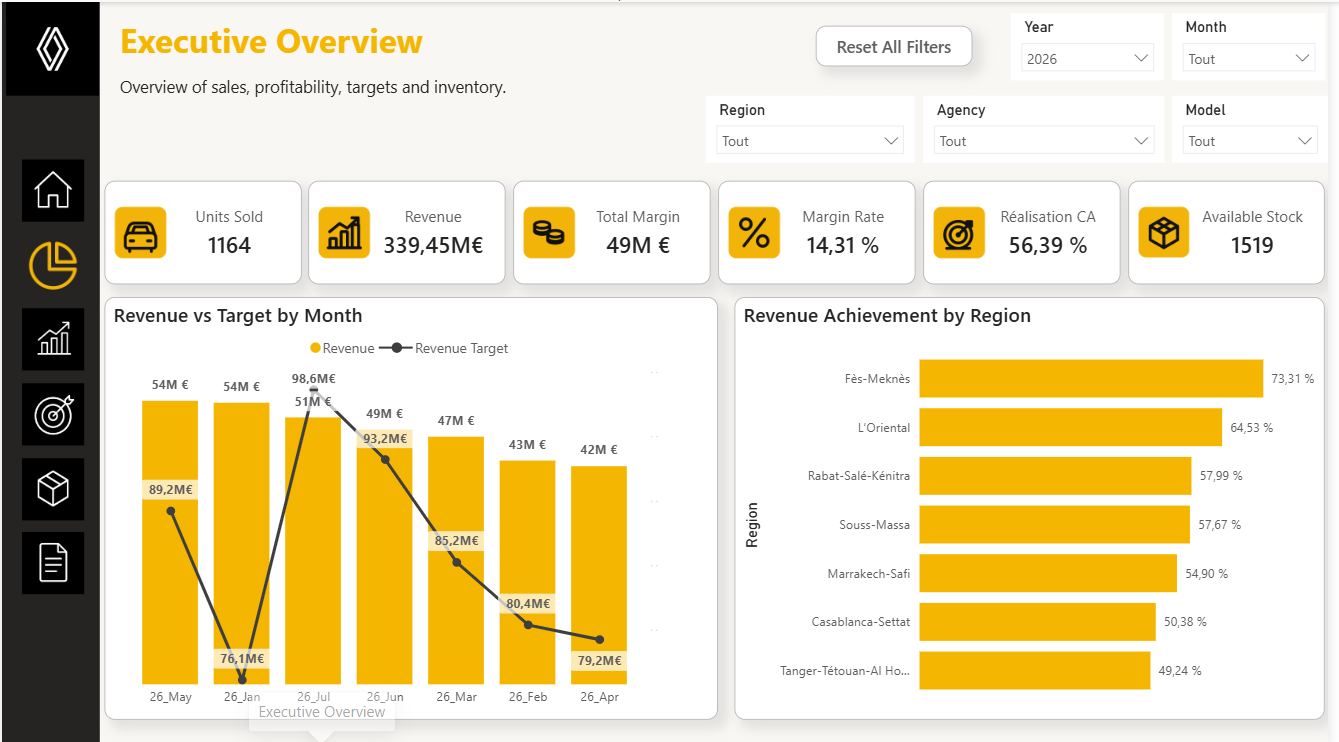

The dashboard page shown, as its layout file describes it:
{"tool":"powerbi","page":{"name":"Executive Overview","canvas":[1280,720],"ordinal":1},"visuals":[{"type":"shape","box":[0,0,94.5,720],"z":0},{"type":"image","box":[18.8,152.6,60,60],"z":0,"group":"g1"},{"type":"textbox","box":[108.6,9.7,318.5,55.5],"z":1000},{"type":"image","box":[18.8,224.6,60,60],"z":1000,"group":"g1"},{"type":"image","box":[0,0,97.5,90.2],"z":2000},{"type":"image","box":[18.8,296.5,60,60],"z":2000,"group":"g1"},{"type":"textbox","box":[108.6,65.1,405.4,32.6],"z":3000},{"type":"image","box":[18.8,368.5,60,60],"z":3000,"group":"g1"},{"type":"cardVisual","fields":{"Data":["Mes mesures.Unités vendues"]},"box":[98.6,172,190,100],"z":4000},{"type":"image","box":[18.8,440.4,60,60],"z":4000,"group":"g1"},{"type":"cardVisual","fields":{"Data":["Mes mesures.Chiffre d'affaires"]},"box":[295.6,172,190,100],"z":5000},{"type":"image","box":[19.1,512.4,59.8,59.8],"z":5000,"group":"g1"},{"type":"cardVisual","fields":{"Data":["Mes mesures.Marge totale"]},"box":[493.4,172,190,100],"z":6000},{"type":"cardVisual","fields":{"Data":["Mes mesures.Taux de marge"]},"box":[691.3,172,190,100],"z":7000},{"type":"cardVisual","fields":{"Data":["Mes mesures.Taux de réalisation CA"]},"box":[889.1,172,190,100],"z":8000},{"type":"cardVisual","fields":{"Data":["Mes mesures.Stock disponible"]},"box":[1087,172,189.4,100.1],"z":9000},{"type":"lineStackedColumnComboChart","title":"Revenue vs Target by Month","fields":{"Category":["Dim_Mois.MonthAdjusted"],"Y":["Mes mesures.Chiffre d'affaires"],"Y2":["Mes mesures.Objectif CA"]},"box":[98.9,284.7,592.4,407.8],"z":10000},{"type":"barChart","title":"Revenue Achievement by Region","fields":{"Category":["Dim_Agence.Region Hiérarchie.Region","Dim_Agence.Region Hiérarchie.City","Dim_Agence.Region Hiérarchie.Agency_Name"],"Y":["Mes mesures.Taux de réalisation CA"]},"box":[707,284.7,569.4,407.8],"z":11000},{"type":"slicer","fields":{"Values":["Dim_Mois.Year"]},"box":[973,10.7,148.4,65.1],"z":12000},{"type":"slicer","fields":{"Values":["Dim_Mois.Month"]},"box":[1128.7,10.7,148.4,65.1],"z":13000},{"type":"slicer","fields":{"Values":["Dim_Agence.Region"]},"box":[679.2,90.5,201.5,65.1],"z":14000},{"type":"slicer","fields":{"Values":["Dim_Agence.Agency_Name"]},"box":[888.5,90.5,232.8,65.1],"z":15000},{"type":"slicer","fields":{"Values":["Dim_Vehicule.Model"]},"box":[1129.2,90.5,150.8,65.1],"z":16000},{"type":"actionButton","box":[785.7,22.9,151.3,39.4],"z":17000},{"type":"group","id":"g1","title":"Groupe 1","box":[18.8,152.6,60,419.5],"z":18000}]}

Visuals, with their boxes on the page's 1280x720 design canvas (x1, y1, x2, y2). These are canvas units, not pixel positions in the 1339x742 screenshot, which may show the page scaled, cropped or inside an application window:
shape: box=[0, 0, 94, 720]
image: box=[19, 153, 79, 213]
textbox: box=[109, 10, 427, 65]
image: box=[19, 225, 79, 285]
image: box=[0, 0, 98, 90]
image: box=[19, 296, 79, 356]
textbox: box=[109, 65, 514, 98]
image: box=[19, 368, 79, 428]
cardVisual - Mes mesures.Unités vendues: box=[99, 172, 289, 272]
image: box=[19, 440, 79, 500]
cardVisual - Mes mesures.Chiffre d'affaires: box=[296, 172, 486, 272]
image: box=[19, 512, 79, 572]
cardVisual - Mes mesures.Marge totale: box=[493, 172, 683, 272]
cardVisual - Mes mesures.Taux de marge: box=[691, 172, 881, 272]
cardVisual - Mes mesures.Taux de réalisation CA: box=[889, 172, 1079, 272]
cardVisual - Mes mesures.Stock disponible: box=[1087, 172, 1276, 272]
"Revenue vs Target by Month" lineStackedColumnComboChart: box=[99, 285, 691, 692]
"Revenue Achievement by Region" barChart: box=[707, 285, 1276, 692]
slicer - Dim_Mois.Year: box=[973, 11, 1121, 76]
slicer - Dim_Mois.Month: box=[1129, 11, 1277, 76]
slicer - Dim_Agence.Region: box=[679, 90, 881, 156]
slicer - Dim_Agence.Agency_Name: box=[888, 90, 1121, 156]
slicer - Dim_Vehicule.Model: box=[1129, 90, 1280, 156]
actionButton: box=[786, 23, 937, 62]
"Groupe 1" group: box=[19, 153, 79, 572]
